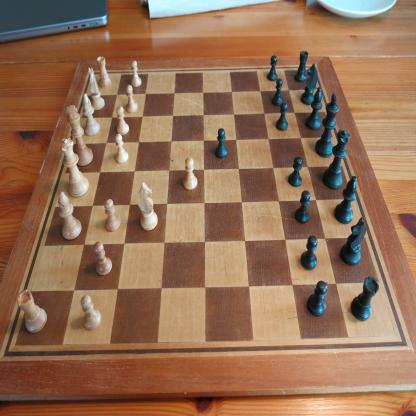black-bishop: (334, 174, 357, 224), (305, 86, 322, 130)
black-king: (314, 92, 340, 157)
black-knight: (340, 216, 366, 266), (300, 62, 318, 104)
black-pawn: (306, 279, 328, 317), (300, 234, 318, 269), (294, 189, 311, 223), (288, 155, 303, 187), (215, 127, 228, 158), (271, 77, 284, 105), (276, 101, 288, 130), (266, 54, 278, 80)
black-queen: (322, 128, 351, 189)
black-rook: (350, 275, 380, 321), (294, 49, 309, 82)
white-bishop: (58, 190, 82, 240), (82, 92, 100, 136)
white-king: (66, 104, 93, 166)
white-knight: (137, 182, 158, 232), (88, 67, 106, 111)
white-pawn: (80, 294, 102, 330), (93, 240, 113, 276), (104, 198, 121, 232), (182, 156, 198, 191), (114, 132, 129, 164), (115, 106, 128, 136), (130, 59, 142, 87), (126, 84, 138, 112)
white-queen: (58, 136, 89, 198)
white-rook: (16, 289, 48, 334), (96, 56, 111, 88)
